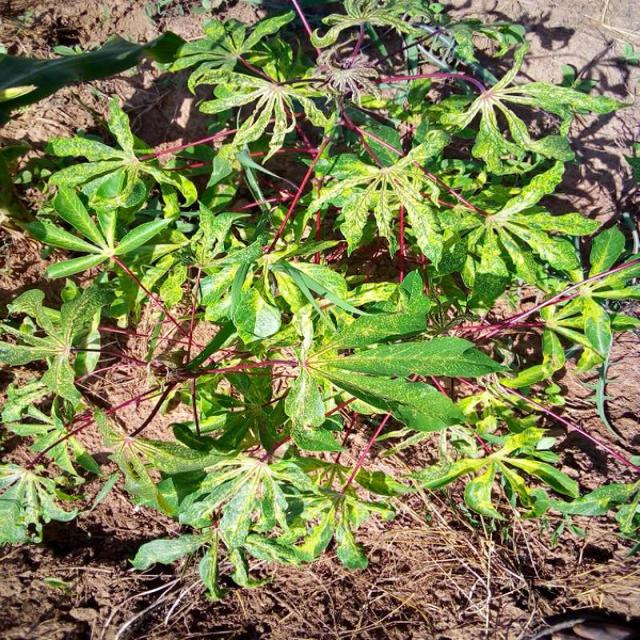cassava leaf: (2, 2, 638, 599)
